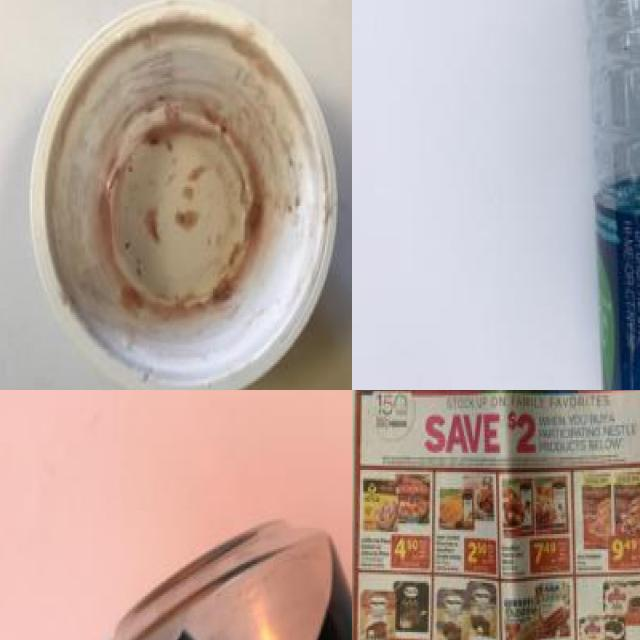paper: (352, 390, 640, 640)
plastic: (99, 525, 352, 640), (582, 0, 640, 390)
trash: (15, 0, 352, 390)
